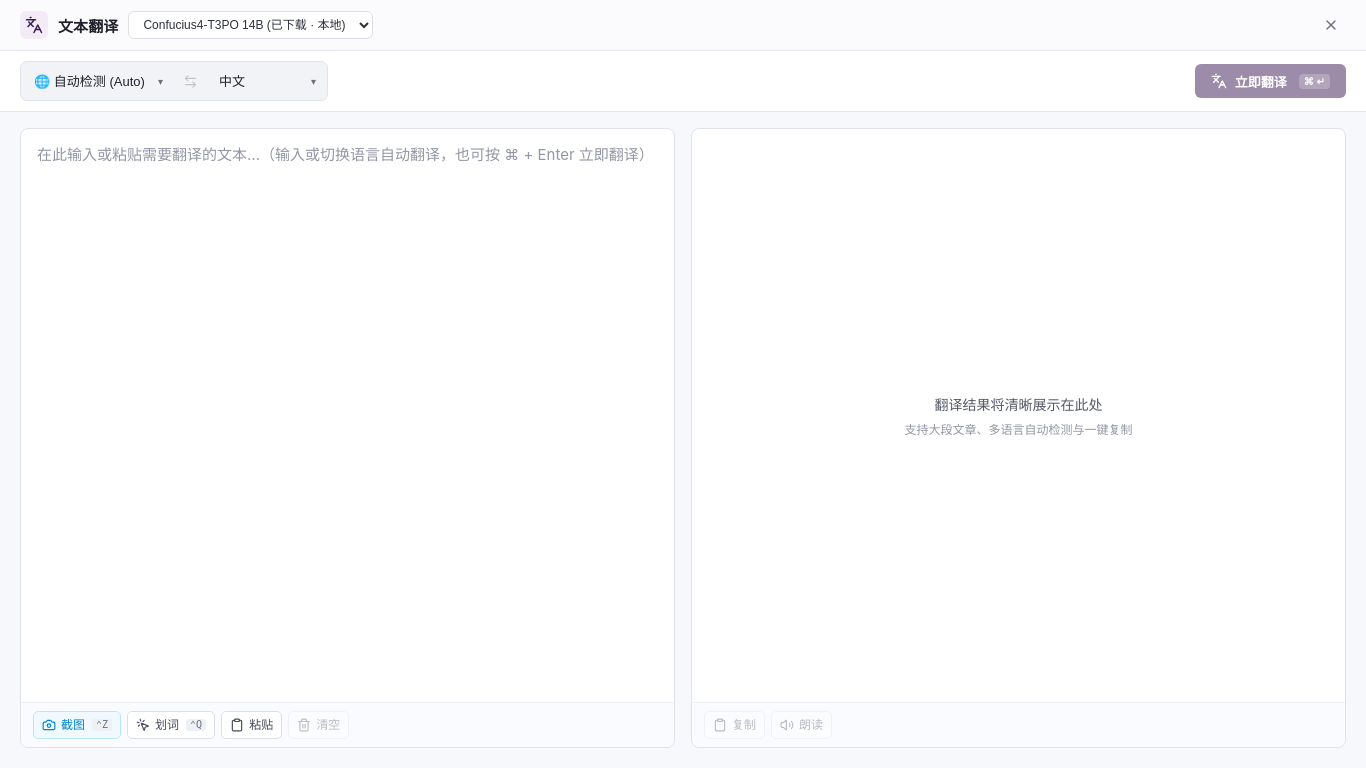
Test: TextTranslationView › pastes text from clipboard when paste button clicked
The image size is (1366, 768).
Click the button "粘贴" at [252, 725], box 221,711 -> 282,739
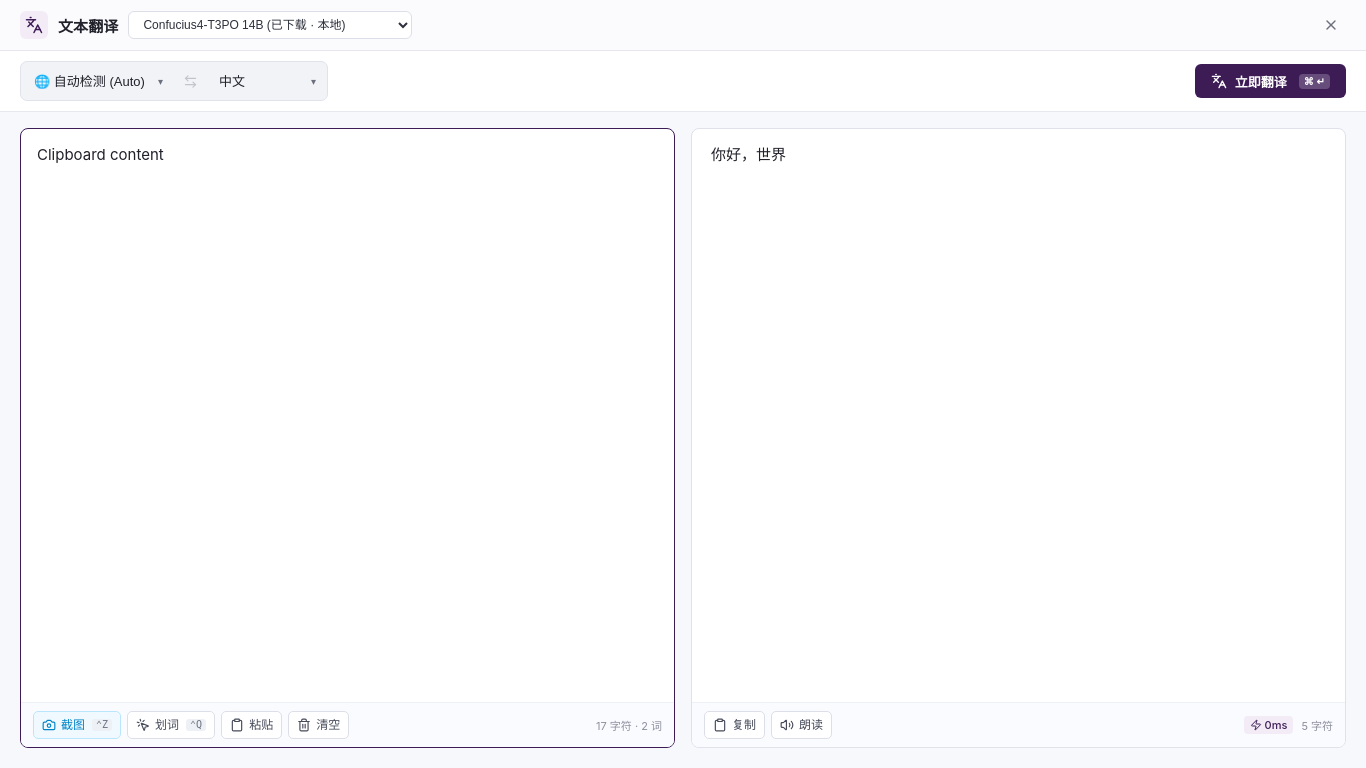
Now the text box with placeholder "在此输入或粘贴需要翻译的文本...（输入或切换语言自动翻译，也可按 ⌘ + Enter 立即翻译）" holds "Clipboard content", box 21,129 -> 674,702
